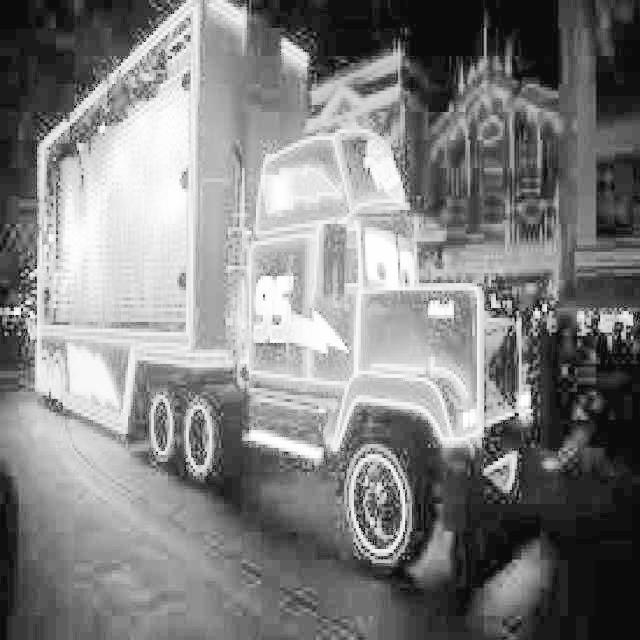Truck: (33, 0, 515, 574)
